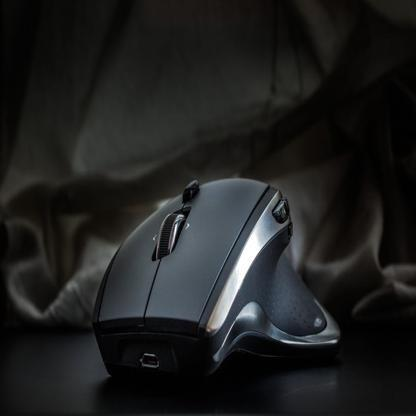not trash: (92, 176, 348, 385)
